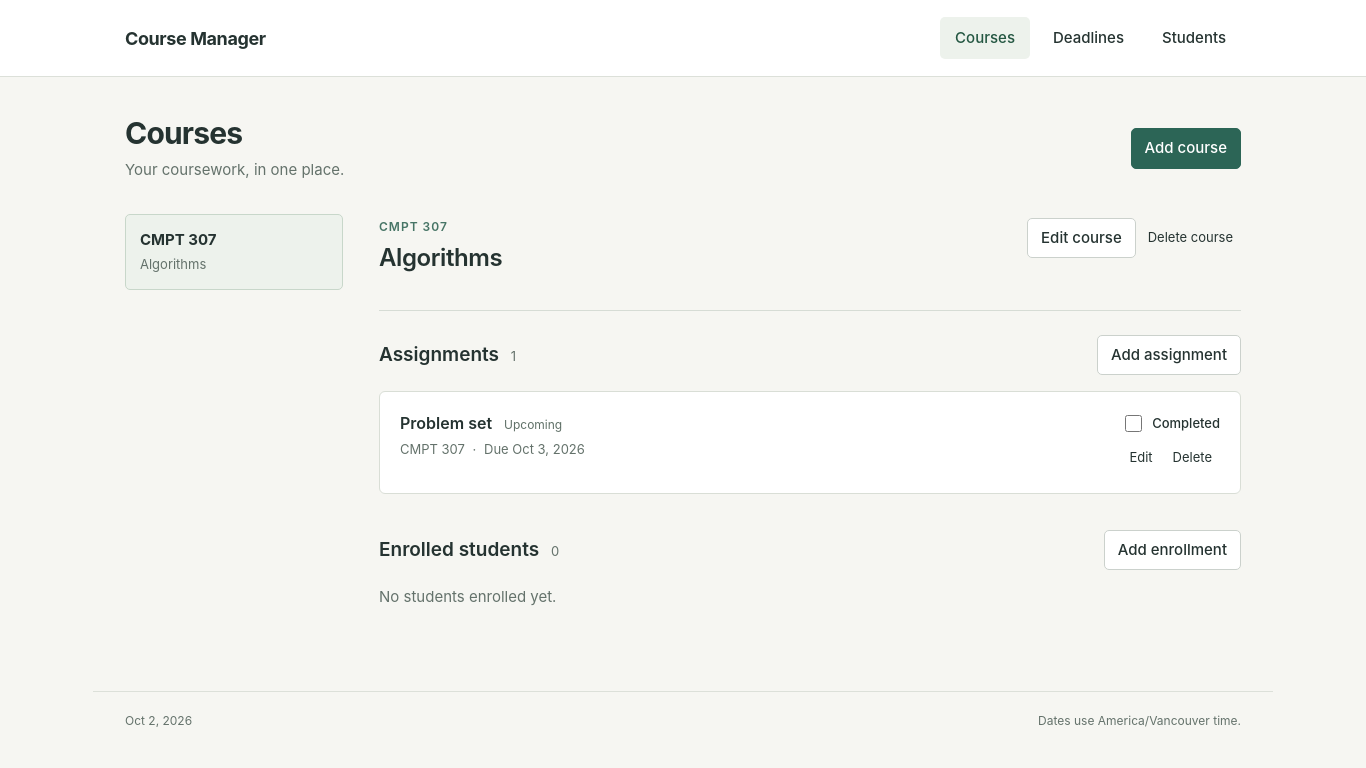
Test: course workspace › rejects a reversed custom range before sending it
This screenshot has width=1366, height=768.
Expected: the heading "Algorithms" is shown, [379,242,502,274]
Click the button "Deadlines": (1088, 38) [1038,17,1139,59]
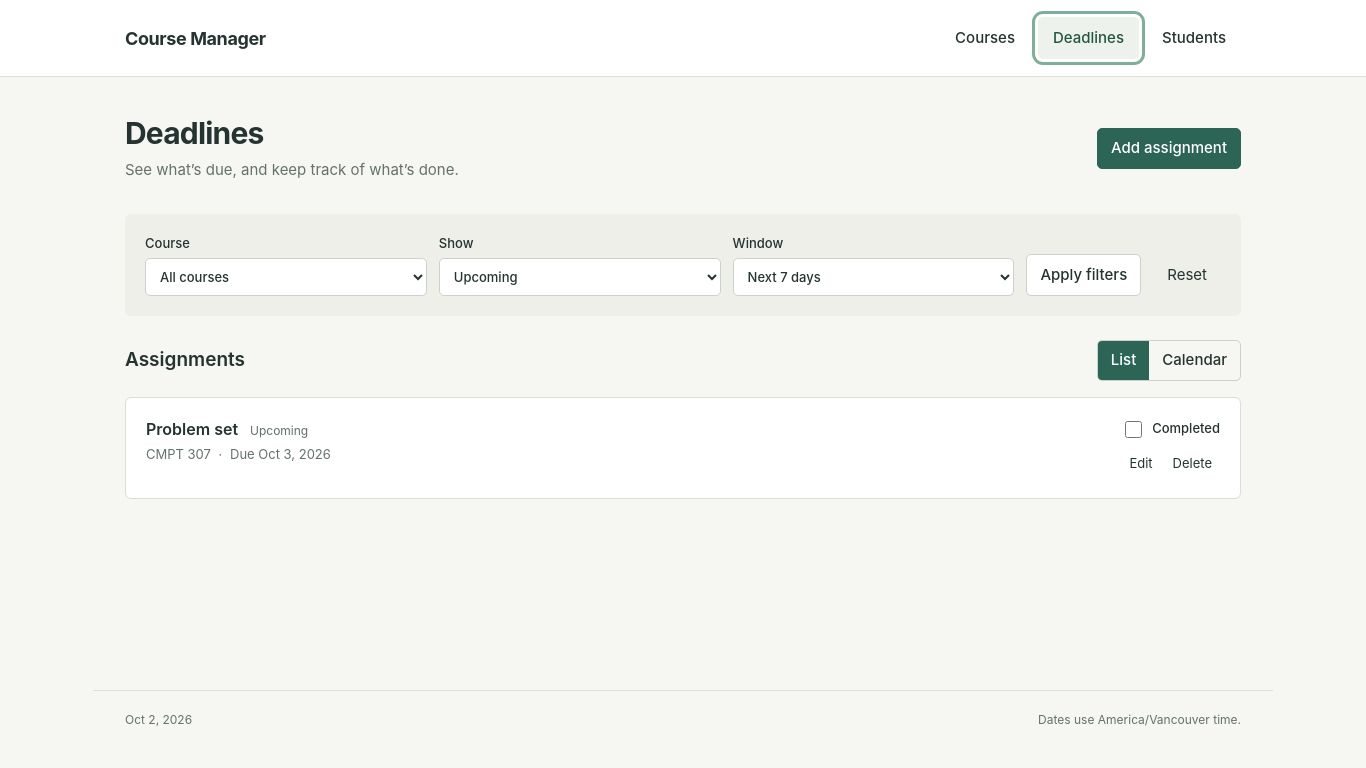
Select "Custom dates" in the dropdown labelled "Window": (874, 277) [733,258,1014,296]
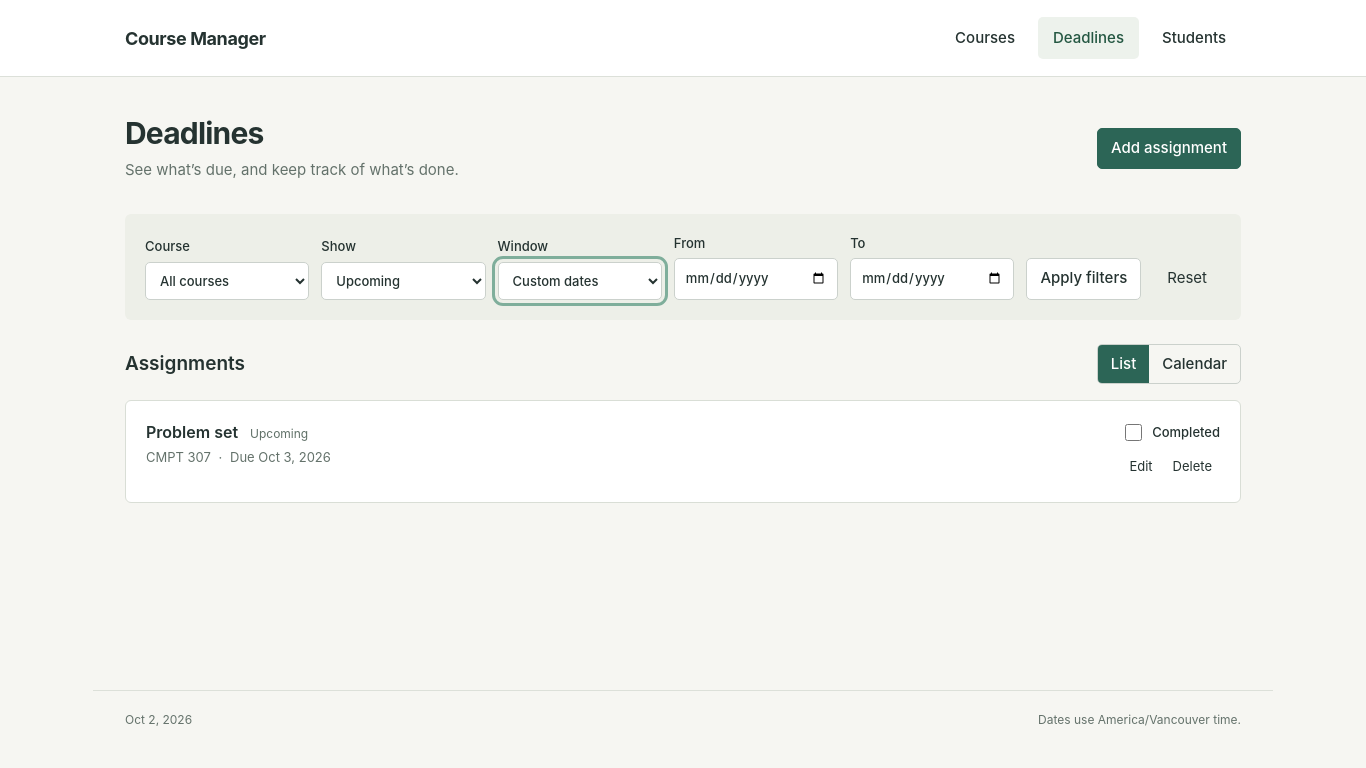
In the date field labelled "From": (756, 279) [674,258,838,300], type "2026-10-10"
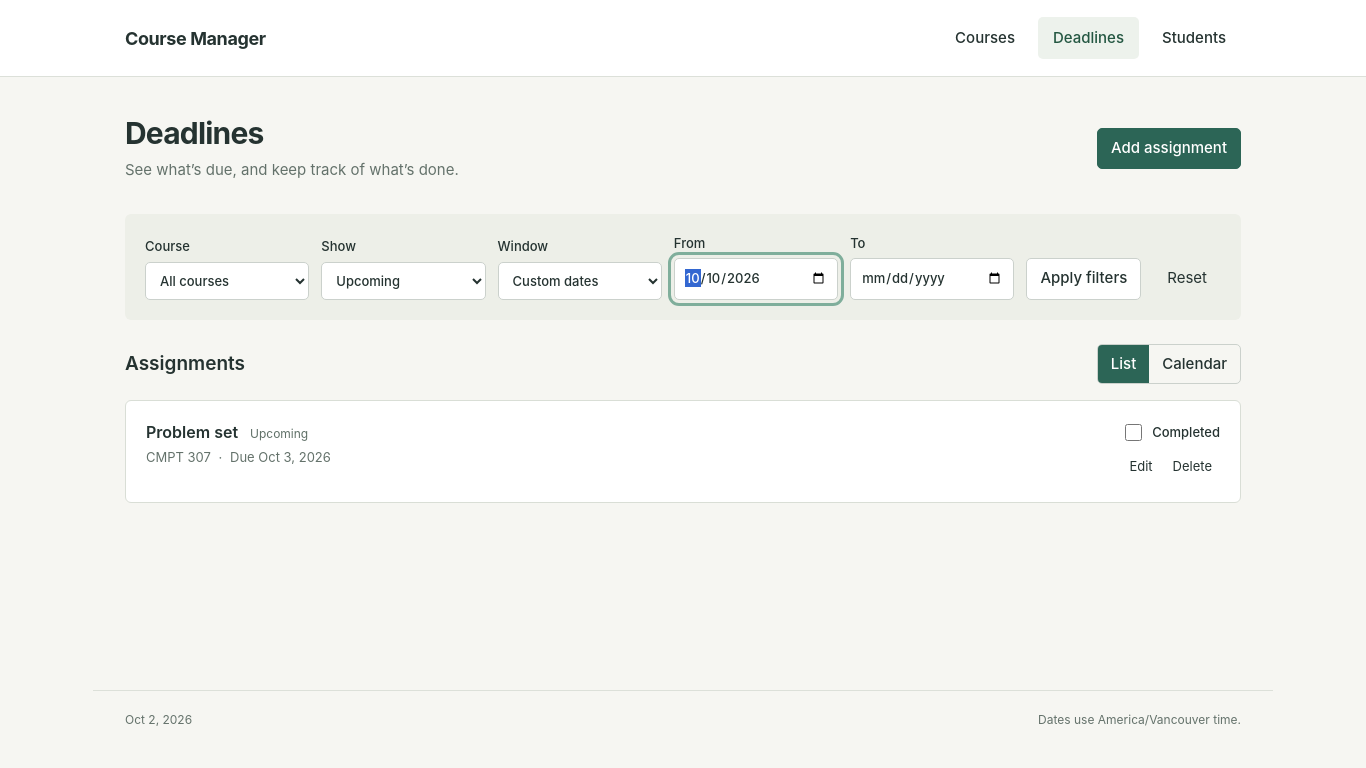
In the date field labelled "To": (932, 279) [850,258,1014,300], type "2026-10-01"
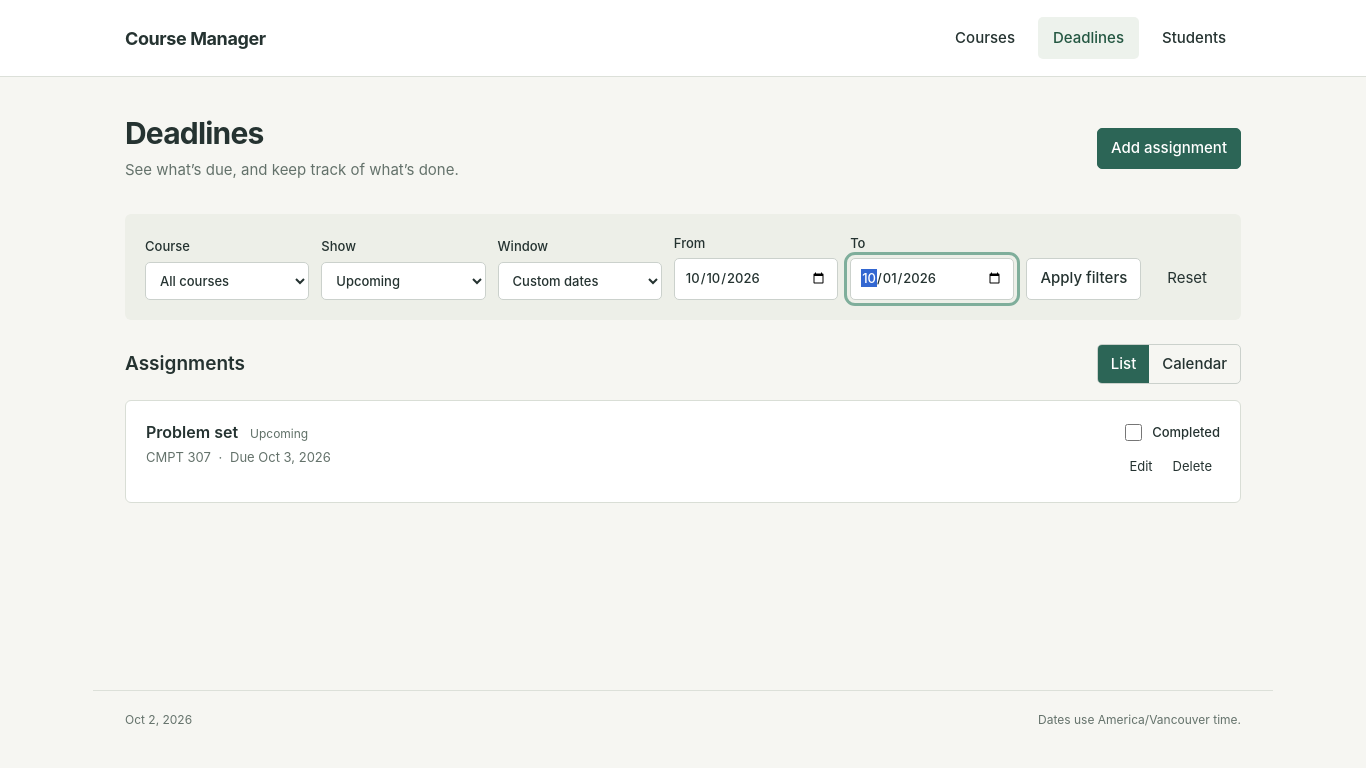
Click the button "Apply filters": (1084, 278) [1026,258,1141,300]
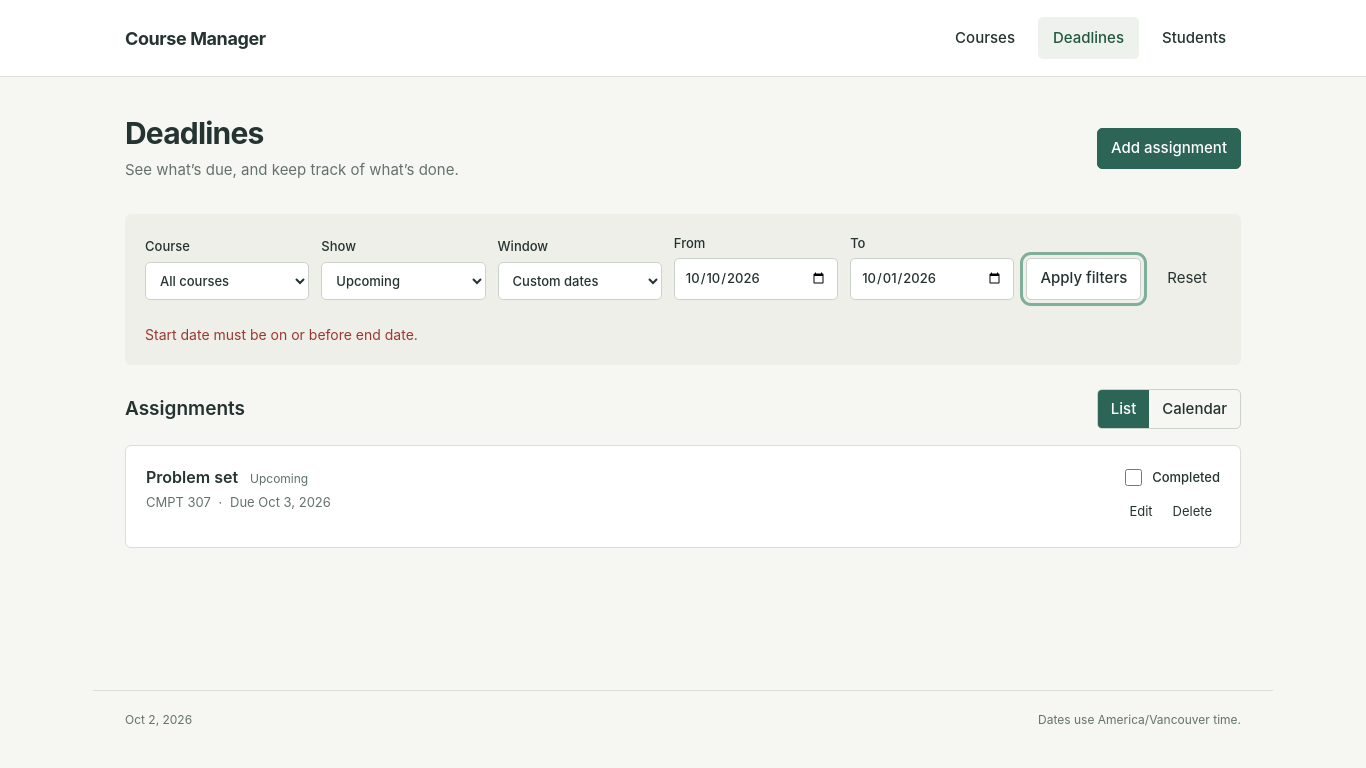
Result: the message shows "Start date must be on or before end date" at [145,326,418,342]
